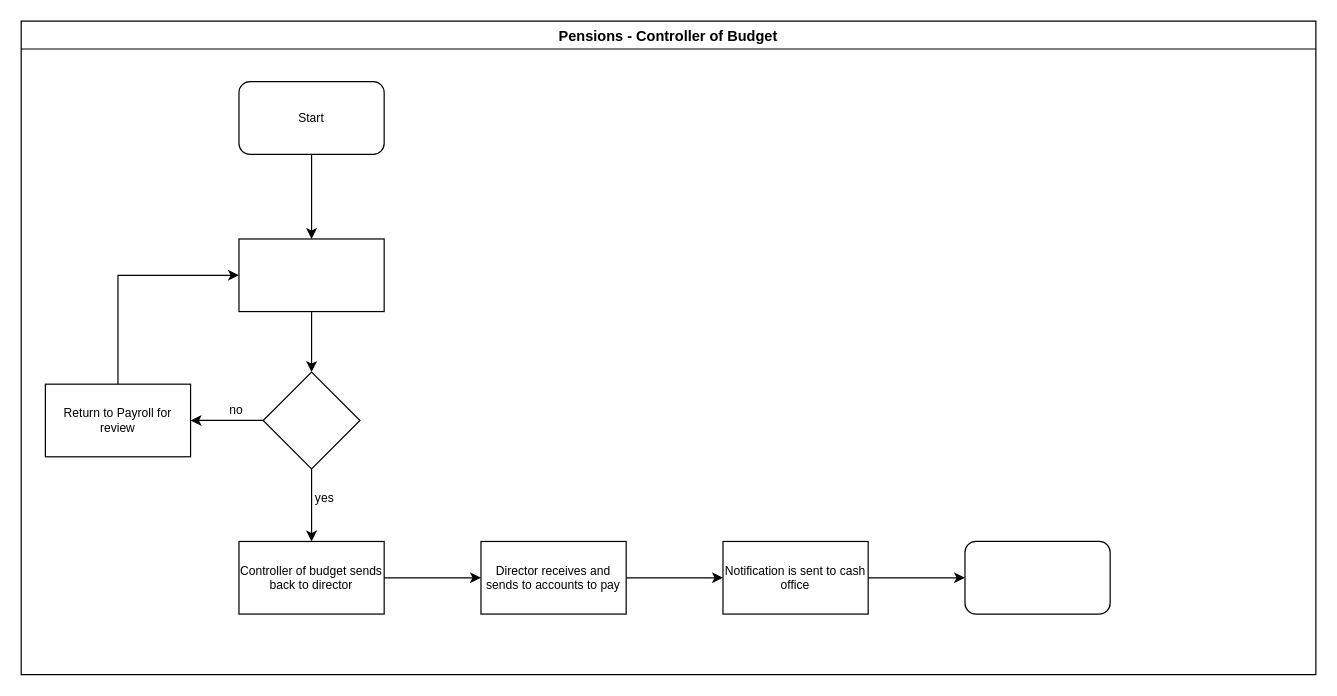
Some shapes in this 1337 by 696 pixel diagram are drawn without their labels. The centre of each missing label's shape, as x and y in pixels:
Approved and signed?: point 311,420
Controller of verifies, validates: point 311,275
End: point 1037,577
